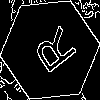R: (25, 25, 79, 81)
